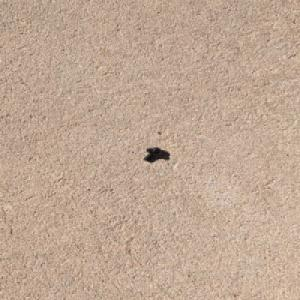BoltWasher: (142, 147, 163, 161)
